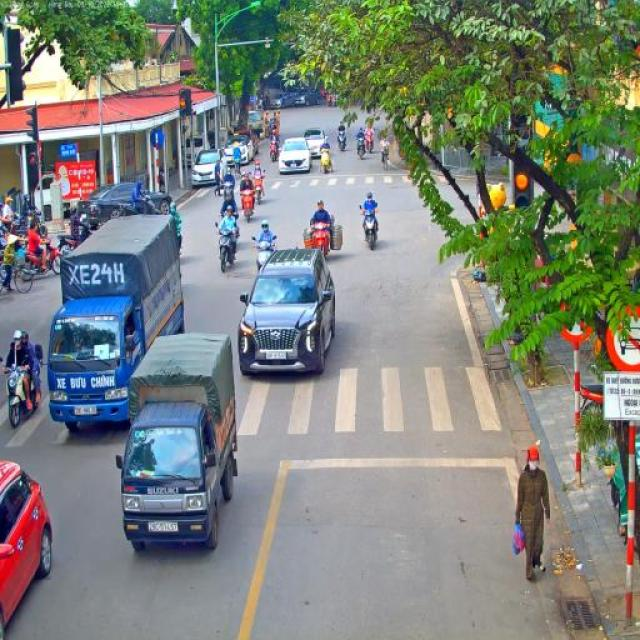bus: (532, 66, 583, 234)
car: (237, 246, 337, 379), (0, 459, 54, 640), (71, 182, 174, 229), (191, 148, 224, 188), (278, 137, 312, 175), (218, 138, 250, 168), (231, 129, 260, 157), (302, 128, 326, 160), (248, 110, 264, 138), (293, 90, 317, 106), (304, 89, 328, 105), (280, 92, 300, 108), (270, 94, 286, 110)
motorcycle: (0, 362, 41, 428), (51, 220, 94, 260), (302, 218, 342, 261), (21, 238, 64, 277), (214, 222, 238, 272), (252, 234, 278, 277), (359, 204, 379, 250), (15, 212, 47, 239), (578, 381, 604, 414), (120, 196, 154, 216), (240, 188, 256, 222), (250, 173, 266, 206), (221, 182, 237, 214), (318, 148, 333, 176), (170, 231, 184, 257), (354, 137, 366, 161), (269, 140, 280, 162), (336, 130, 346, 151), (364, 133, 374, 153), (270, 120, 278, 136), (329, 98, 337, 109)
truck: (36, 214, 186, 436), (115, 332, 239, 552)
